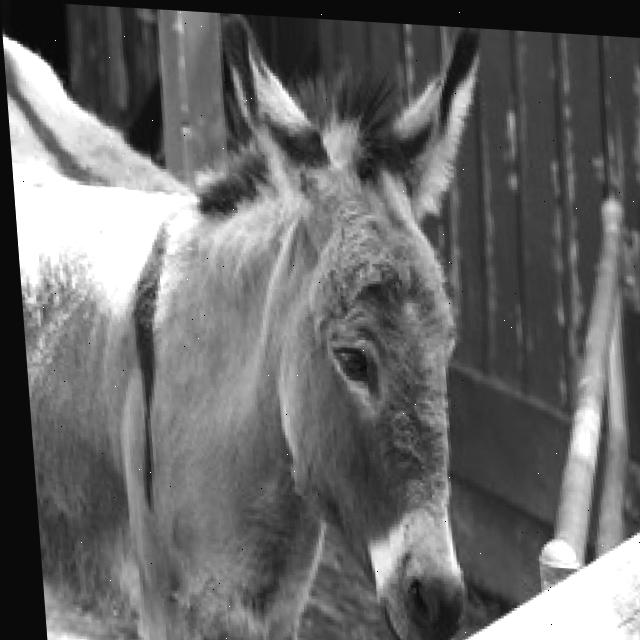Donkey: (0, 0, 530, 640)
